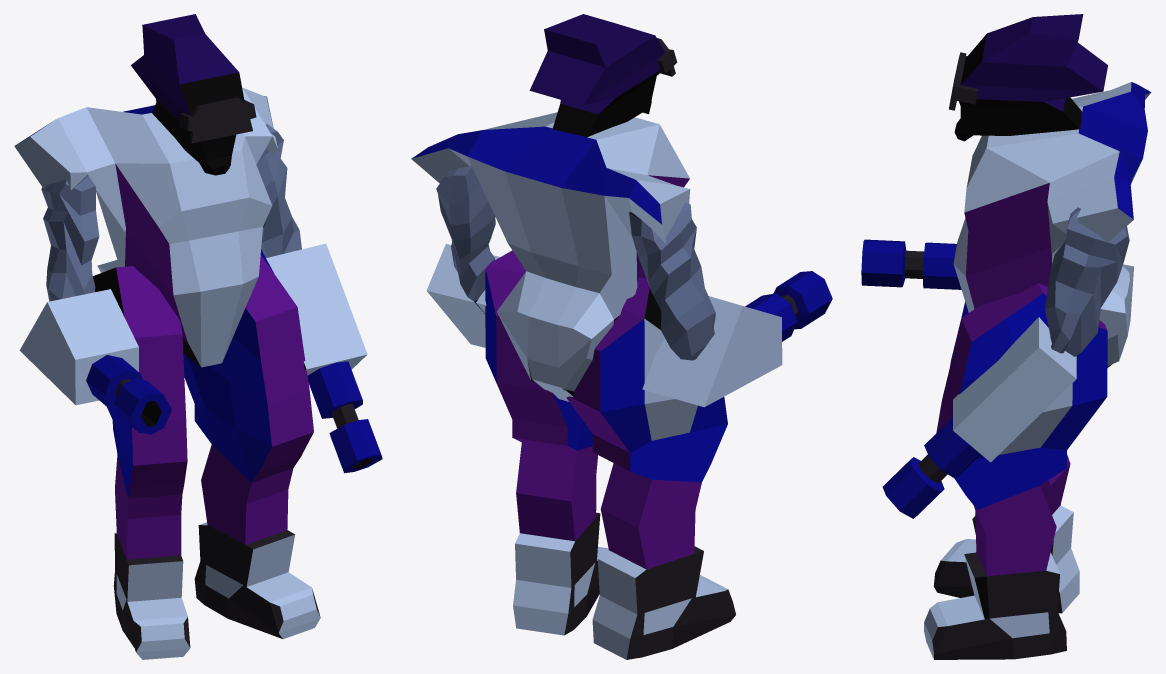
Rendered from first_boss.fbx.
The picture shows the model from 3 angles, left to right: view 1: azimuth 30°, elevation 25°; view 2: azimuth 150°, elevation 25°; view 3: azimuth 270°, elevation 25°; orthographic projection. The views are drawn at different scales.
Visible parts, largest first — view 1: Cube.001; view 2: Cube.001; view 3: Cube.001.
Part boxes in pixels (bbox=[...]): Cube.001: bbox=[14, 14, 382, 659]; Cube.001: bbox=[411, 14, 832, 659]; Cube.001: bbox=[861, 14, 1151, 659].
Bounding box in the file's own units: 87.27 × 170 × 74.78.
